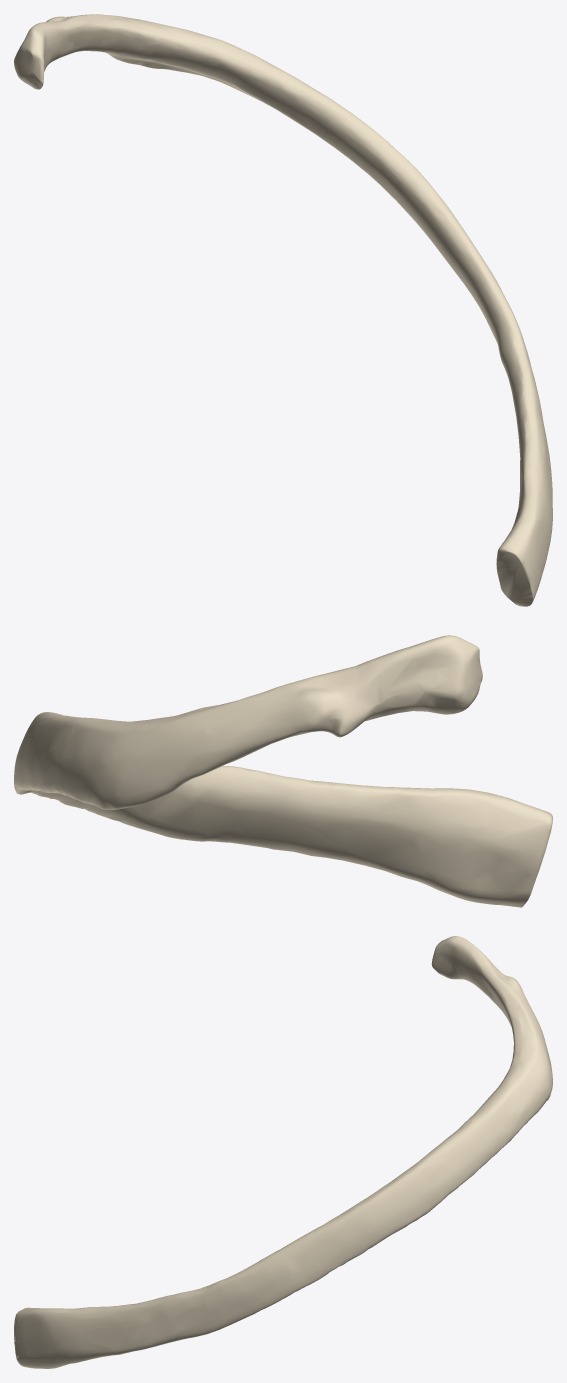
The model's file is sixth-rib-l.glb.
The picture shows the model from 3 angles, top to bottom: view 1: azimuth 30°, elevation 25°; view 2: azimuth 150°, elevation 25°; view 3: azimuth 270°, elevation 25°; orthographic projection. The views are drawn at different scales.
Parts seen in each view (by area): view 1: Sixth rib.l; view 2: Sixth rib.l; view 3: Sixth rib.l.
Boxes of the visible parts, x1,y1,x2,y2 form: Sixth rib.l: (14, 14, 552, 606); Sixth rib.l: (14, 635, 552, 907); Sixth rib.l: (14, 936, 552, 1368).
Bounding box in the file's own units: 0.1231 × 0.1386 × 0.1962.
